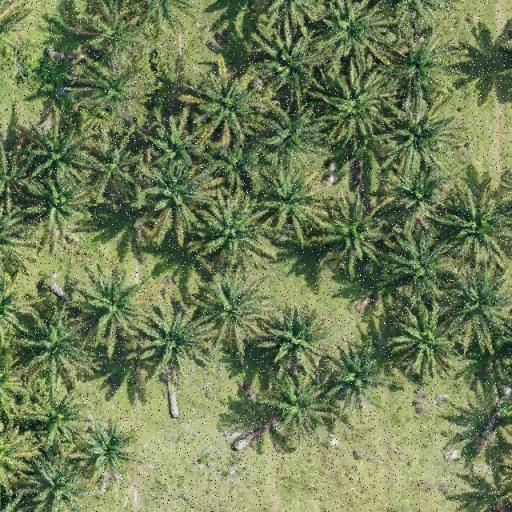Ganoderma: (88, 425, 131, 467)
